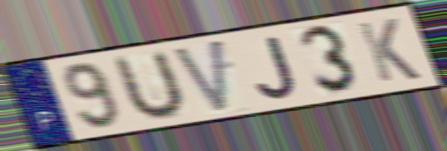3: (296, 22, 362, 97)
9: (61, 60, 124, 131)
J: (252, 33, 300, 101)
K: (354, 16, 424, 85)
U: (112, 48, 188, 125)
V: (169, 35, 230, 116)
